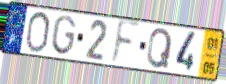2: (84, 18, 108, 62)
4: (174, 29, 198, 76)
F: (109, 18, 142, 67)
G: (50, 14, 78, 58)
O: (24, 11, 52, 54)
Q: (145, 27, 174, 71)
